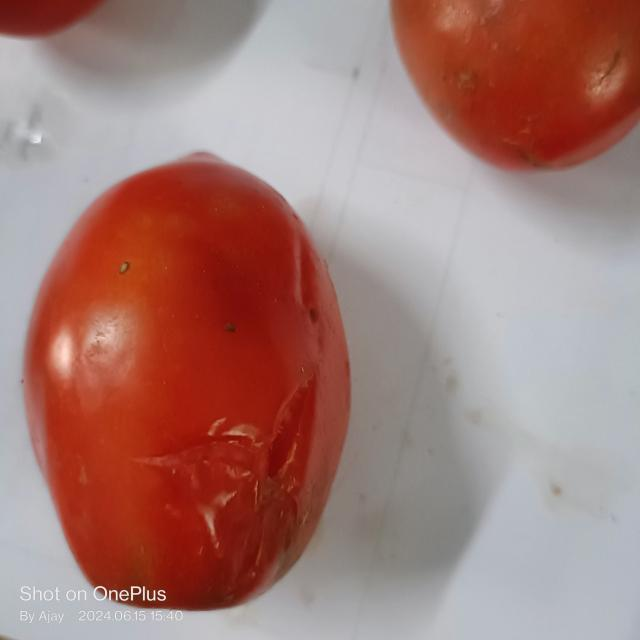Botrytis: (262, 367, 319, 488), (129, 424, 258, 469), (223, 319, 241, 337), (116, 260, 134, 276)
